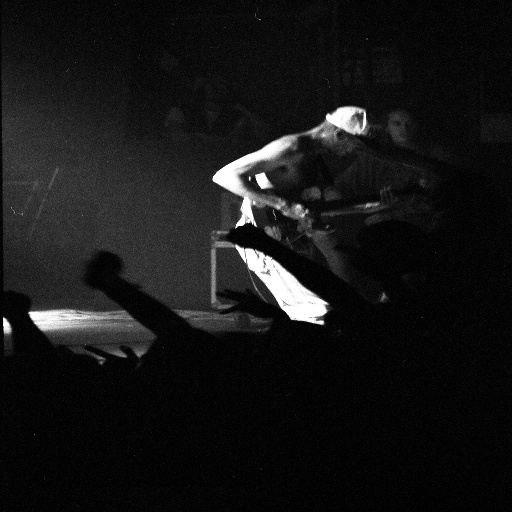hand: (217, 289, 283, 320), (79, 249, 130, 289), (82, 345, 138, 375), (224, 223, 272, 245), (0, 290, 31, 318), (277, 202, 310, 219), (379, 185, 404, 205)
